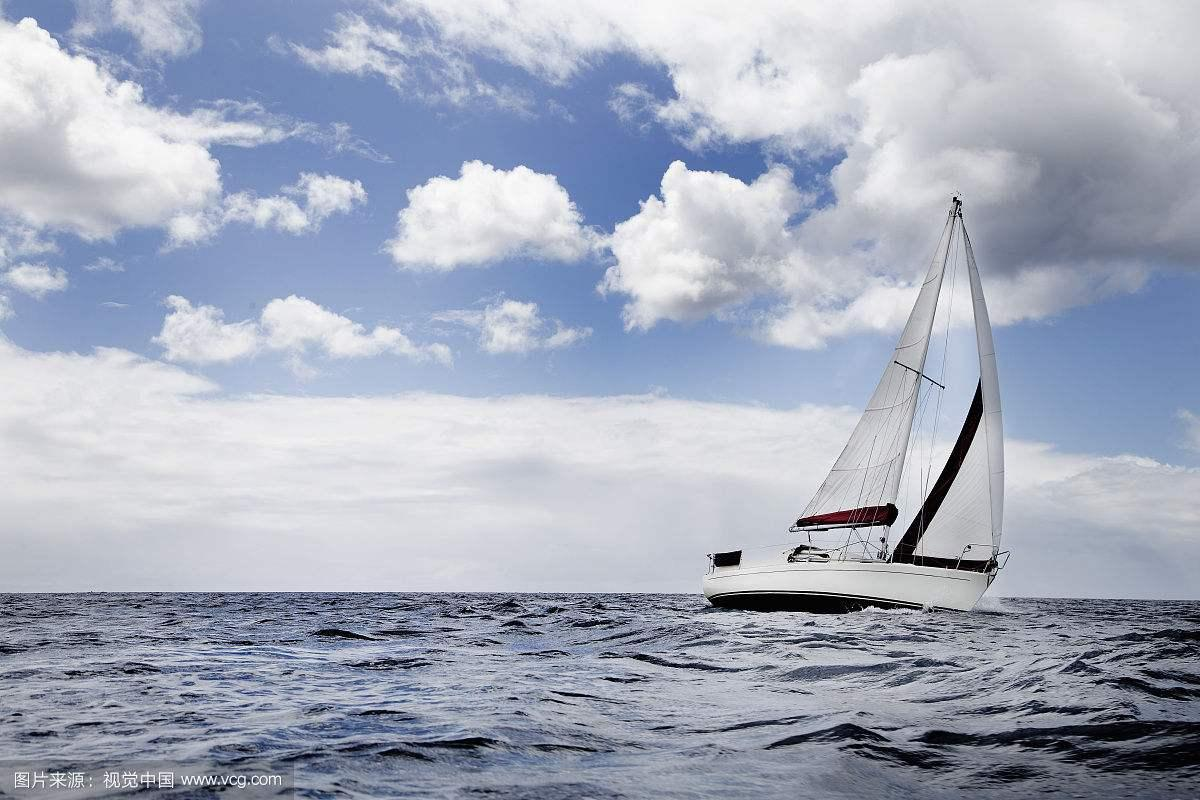fanchuan: (702, 190, 1015, 612)
